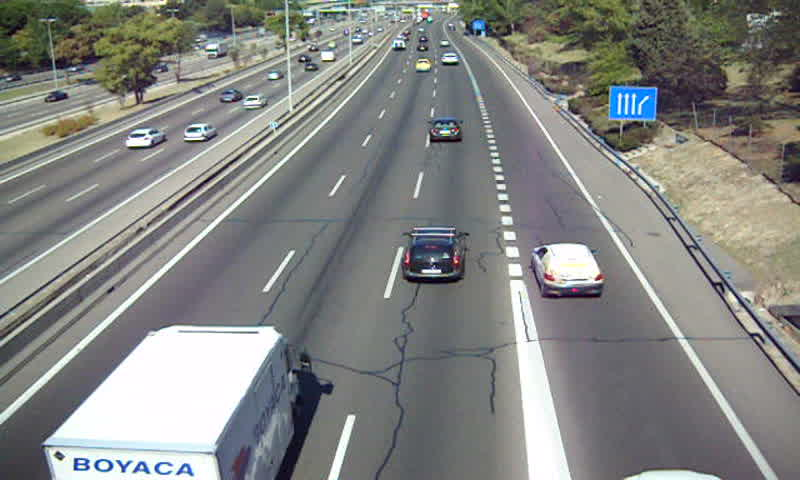car: (532, 243, 604, 297), (399, 227, 468, 282), (427, 117, 462, 141), (414, 58, 432, 74), (441, 51, 460, 65)
small-truck: (41, 325, 301, 480)
